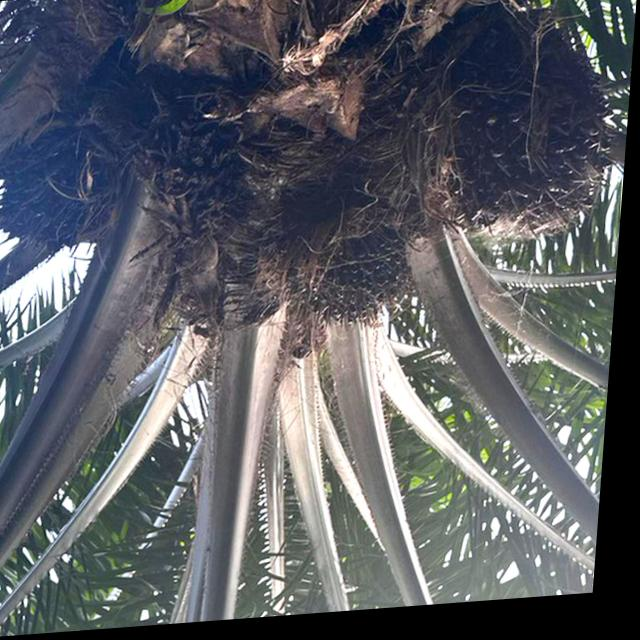unripe: (403, 0, 637, 268), (0, 108, 145, 277), (290, 179, 435, 343)
